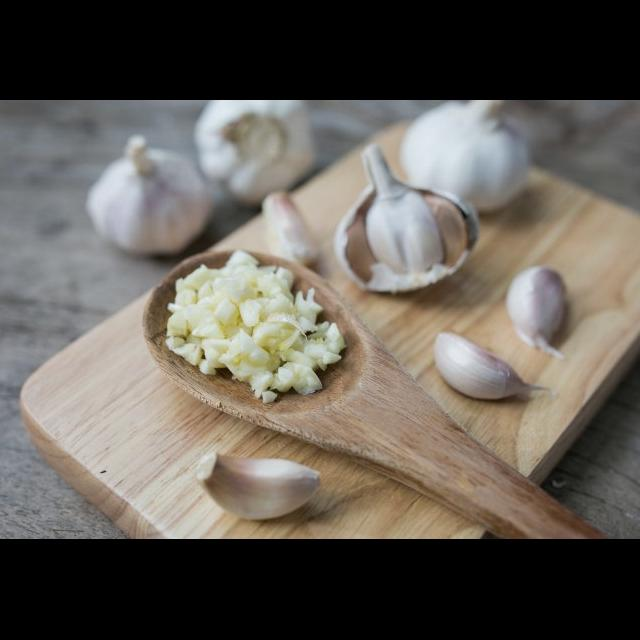garlic: (339, 185, 481, 292), (85, 151, 209, 257), (407, 102, 531, 196), (196, 100, 312, 193), (189, 448, 326, 523), (434, 328, 526, 412), (508, 263, 567, 356)
